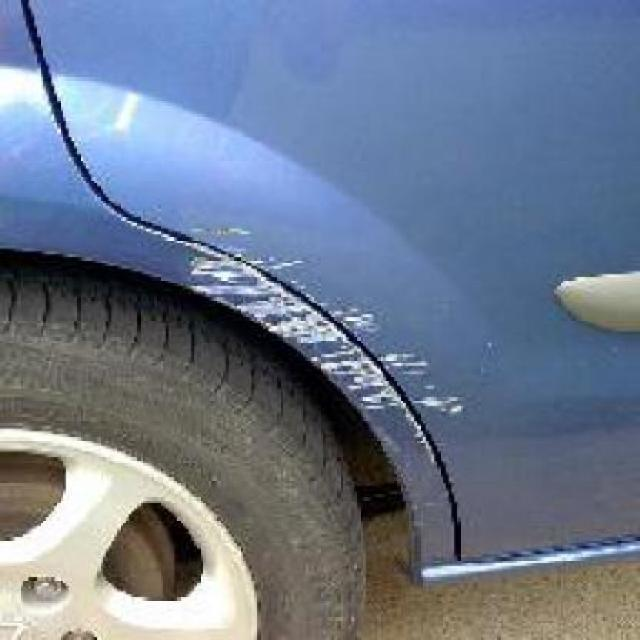dent-or-scratch: (189, 228, 440, 414)
